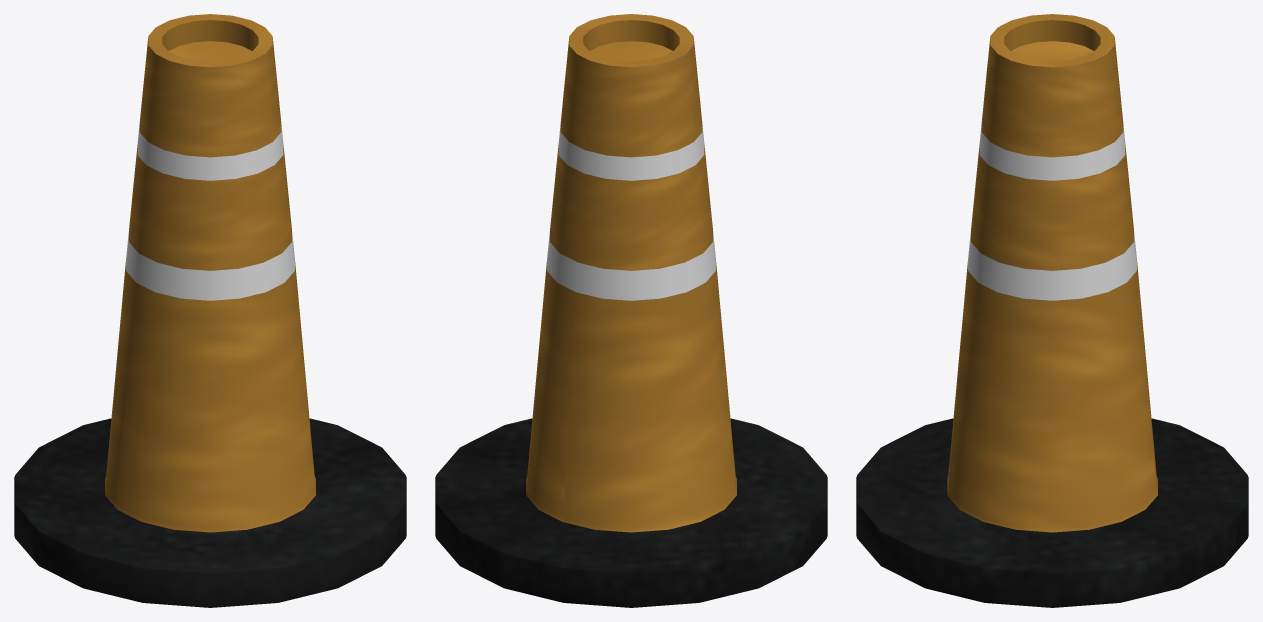
The model's file is RoadCone.fbx.
3 views of the same model, side by side, from view 1: azimuth 30°, elevation 25°; view 2: azimuth 150°, elevation 25°; view 3: azimuth 270°, elevation 25° (orthographic).
Visible parts, largest first — view 1: Cylinder001; view 2: Cylinder001; view 3: Cylinder001.
Part boxes in pixels (<box>): Cylinder001: <box>14,14,406,607</box>; Cylinder001: <box>435,14,827,607</box>; Cylinder001: <box>856,14,1248,607</box>.
Bounding box in the file's own units: 86 × 115 × 84.7.
